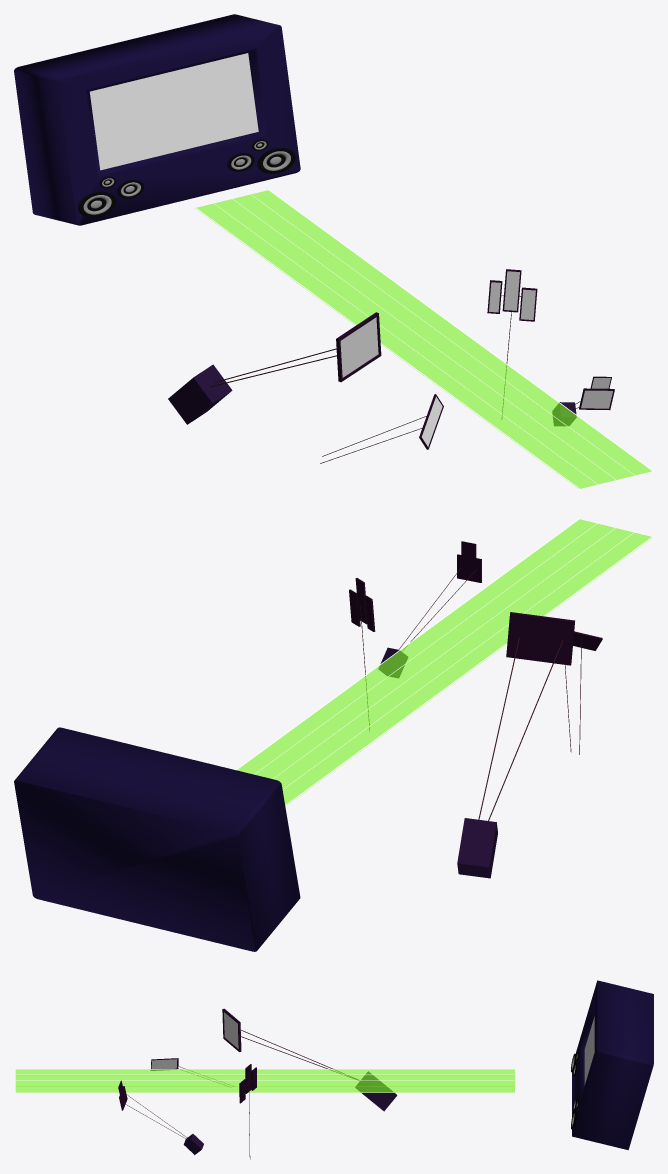
The picture shows the model from 3 angles, top to bottom: view 1: azimuth 30°, elevation 25°; view 2: azimuth 150°, elevation 25°; view 3: azimuth 270°, elevation 25°; orthographic projection. The views are drawn at different scales.
Visible parts, largest first — view 1: tv, screen (×2), lane.3, lane.2, lane.4, lane.1, building, structure; view 2: tv, lane.3, lane.2, lane.1, lane.4, structure, building; view 3: tv, lane.4, lane.1, lane.2, lane.3, building, screen (×2), line.1, line.2, line.3, line.5.
Part boxes in pixels (x1,y1,x2,y2): tv: (14, 14, 300, 225); screen (×2): (89, 53, 378, 377); lane.3: (233, 194, 633, 479); lane.2: (214, 199, 615, 484); lane.4: (251, 190, 651, 475); lane.1: (195, 203, 596, 488); building: (168, 364, 232, 424); structure: (336, 312, 381, 382); tv: (14, 727, 300, 951); lane.3: (255, 524, 614, 778); lane.2: (273, 528, 633, 788); lane.1: (282, 533, 651, 805); lane.4: (237, 519, 596, 774); structure: (506, 612, 574, 665); building: (457, 818, 497, 878); tv: (572, 980, 653, 1150); lane.4: (15, 1086, 514, 1092); lane.1: (15, 1069, 514, 1074); lane.2: (15, 1075, 514, 1080); lane.3: (15, 1081, 514, 1086); building: (355, 1071, 397, 1111); screen (×2): (224, 1012, 594, 1085); line.1: (14, 1069, 514, 1069); line.2: (14, 1074, 514, 1074); line.3: (14, 1080, 514, 1080); line.5: (14, 1092, 514, 1092).
Size of the model in its own units: 14.77 by 10.96 by 46.01.
